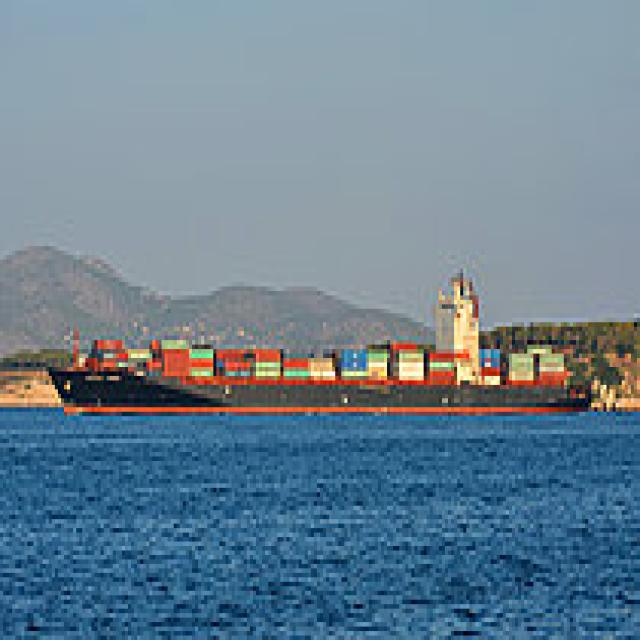Cargo: (37, 259, 591, 412)
